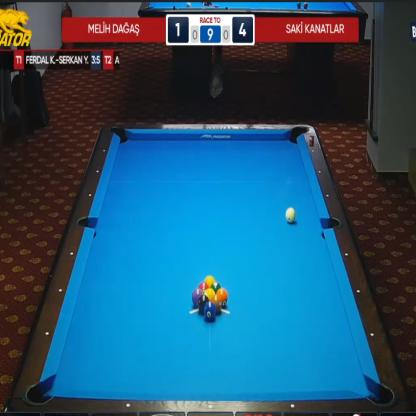Ball: (285, 207, 296, 224)
